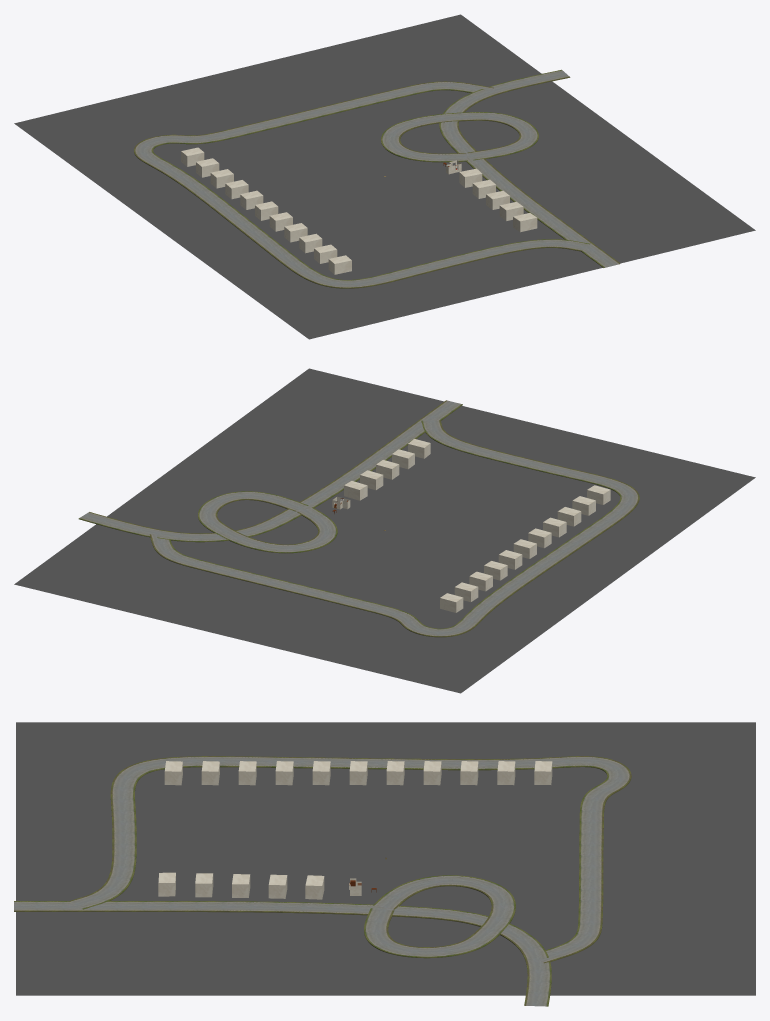
File: map (2).glb
The picture shows the model from 3 angles, top to bottom: view 1: azimuth 30°, elevation 25°; view 2: azimuth 150°, elevation 25°; view 3: azimuth 270°, elevation 25°; orthographic projection. The views are drawn at different scales.
Parts seen in each view (by area): view 1: ground, roud, roud.001, Cube.002, roud.002, Cube.001; view 2: ground, roud, roud.001, Cube.002, roud.002, Cube.001; view 3: ground, roud, roud.001, roud.002, Cube.002, Cube.001.
Boxes of the visible parts, x1,y1,x2,y2 form: ground: (14,14,755,339); roud: (134,81,590,288); roud.001: (439,69,620,267); Cube.002: (181,147,351,274); roud.002: (381,112,538,162); Cube.001: (459,168,537,232); ground: (14,368,755,693); roud: (149,420,639,637); roud.001: (78,400,462,542); Cube.002: (440,485,610,612); roud.002: (198,491,337,553); Cube.001: (344,439,430,500); ground: (16,722,755,995); roud: (70,756,631,963); roud.001: (14,901,551,1006); roud.002: (364,875,515,958); Cube.002: (164,761,552,785); Cube.001: (158,872,324,899).
Bounding box in the file's own units: 369 × 9.45 × 407.
Materials: 13 (8 with a texture image).
